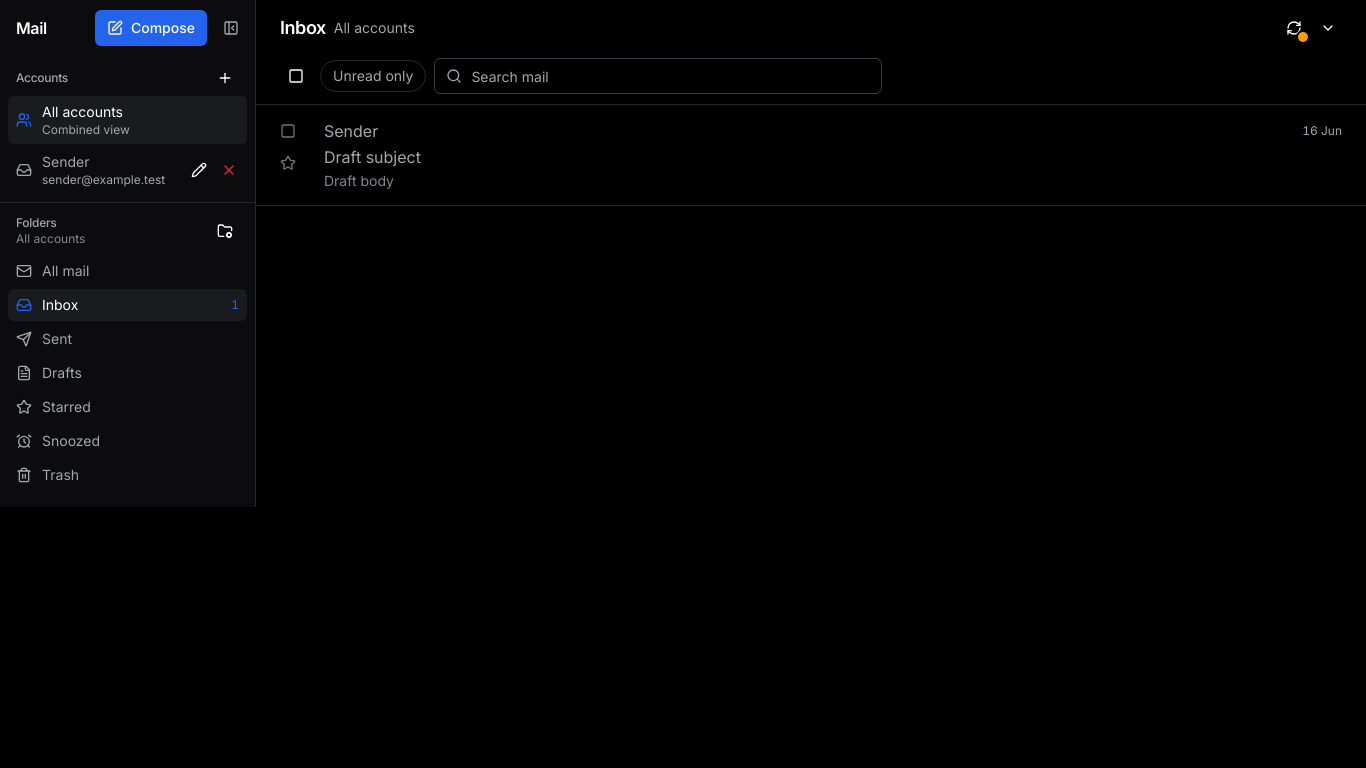
MailPage UI regressions › opens draft rows in compose instead of the reader
The width and height of the screenshot is (1366, 768).
Click the text "Draft subject": coordinates (372, 157) [324,147,421,167]
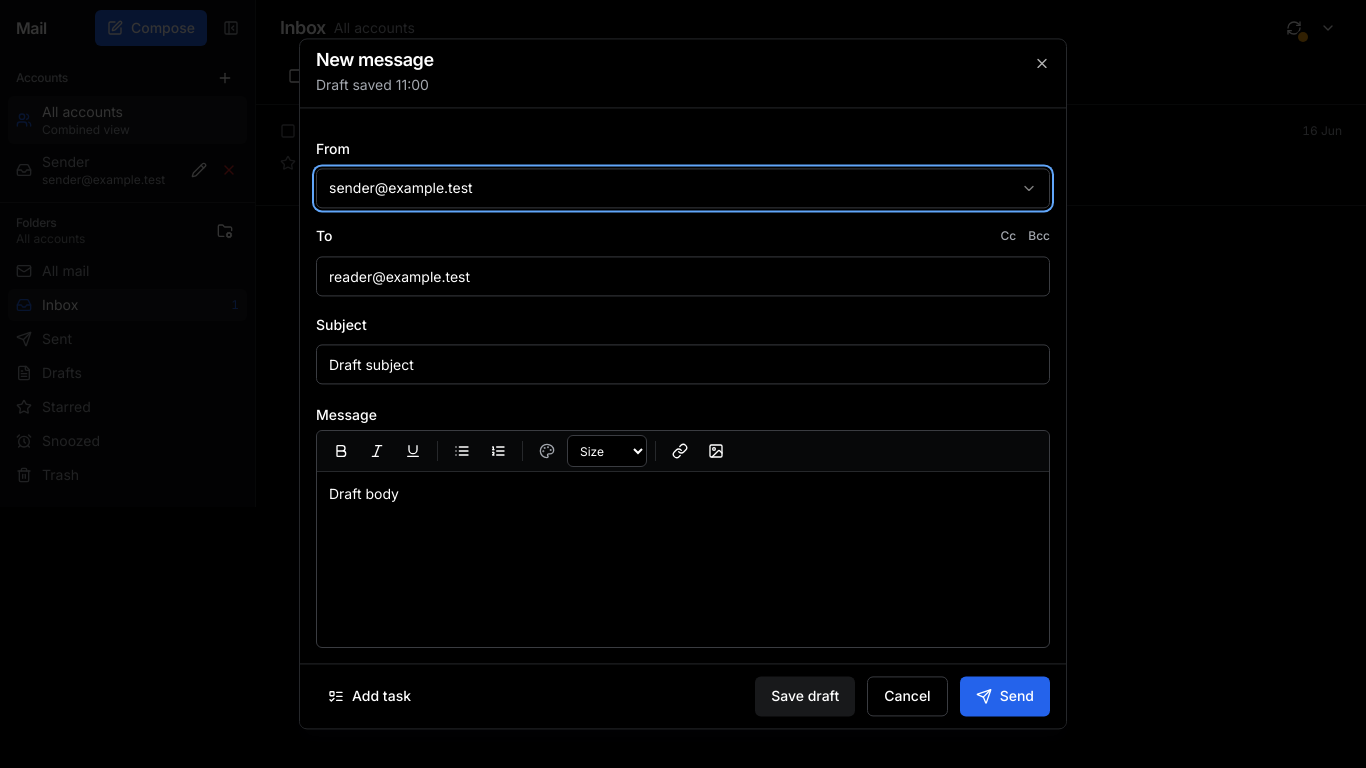
Now the dialog is shown, box [299,38,1067,730]
Now the field labelled "Subject" holds "Draft subject", box [316,344,1050,384]
Now the text "Draft saved 11:00" is shown, box [316,76,429,93]
